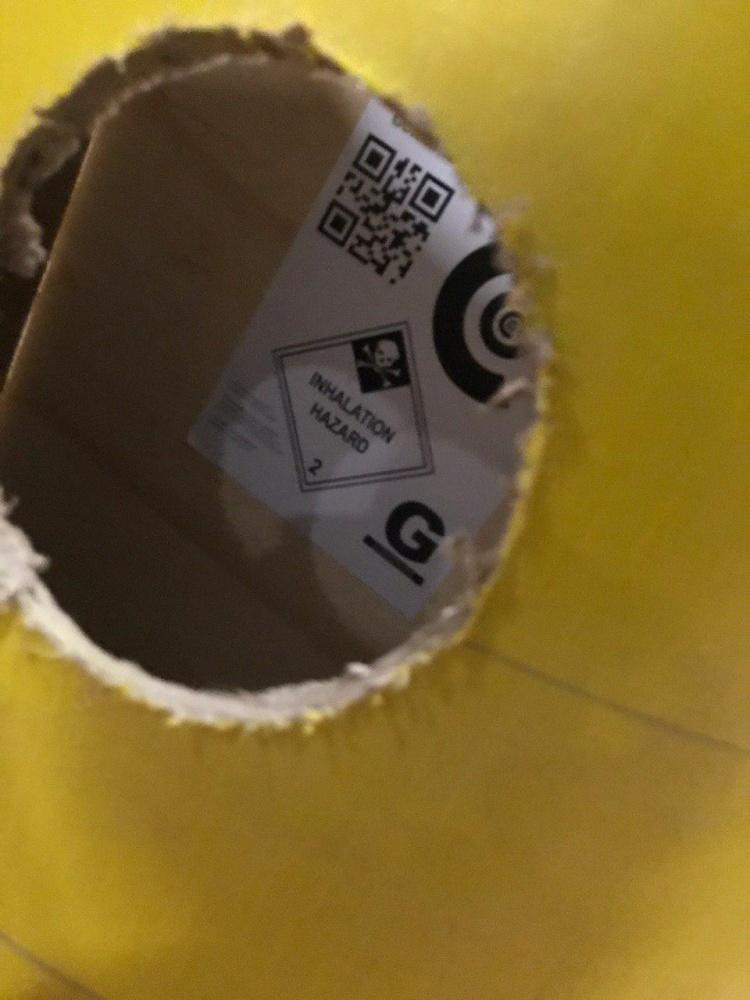poison: (273, 326, 432, 492)
